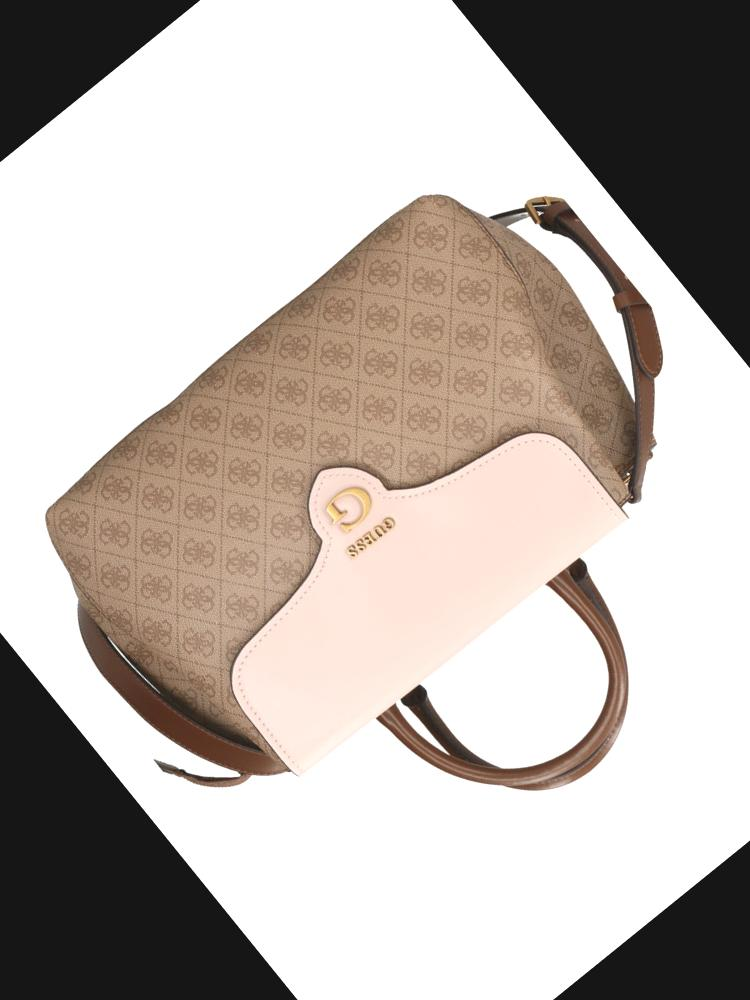GUESS: (343, 512, 398, 561)
